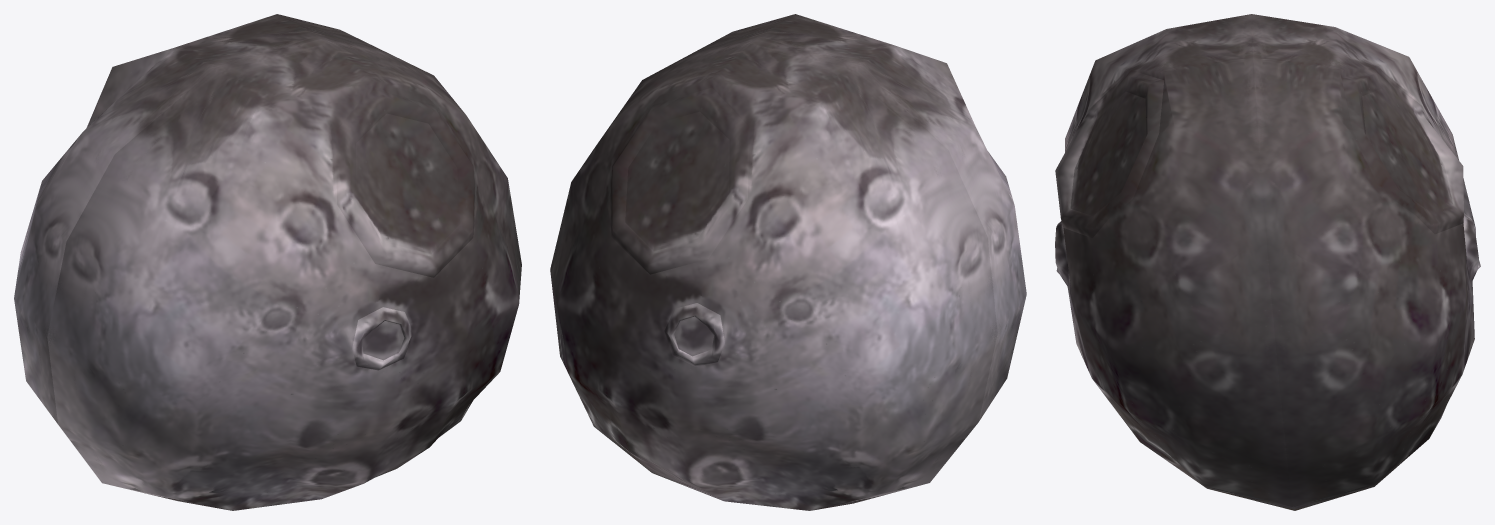
File: Moon.fbx
The picture shows the model from 3 angles, left to right: view 1: azimuth 30°, elevation 25°; view 2: azimuth 150°, elevation 25°; view 3: azimuth 270°, elevation 25°; orthographic projection. The views are drawn at different scales.
Visible parts, largest first — view 1: Moon; view 2: Moon; view 3: Moon.
Part boxes in pixels (x1,y1,x2,y2): Moon: [14, 14, 521, 510]; Moon: [550, 14, 1026, 510]; Moon: [1055, 14, 1480, 510].
Bounding box in the file's own units: 0.1445 × 0.1428 × 0.1266.
Materials: 1 (1 with a texture image).
